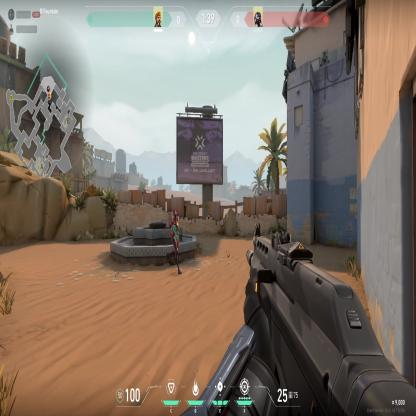enemy: (166, 206, 182, 273)
